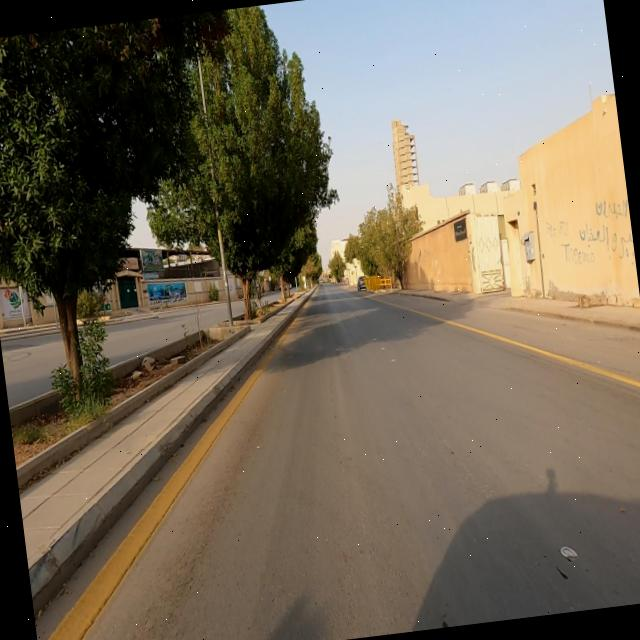Graffiti: (544, 194, 634, 268)
